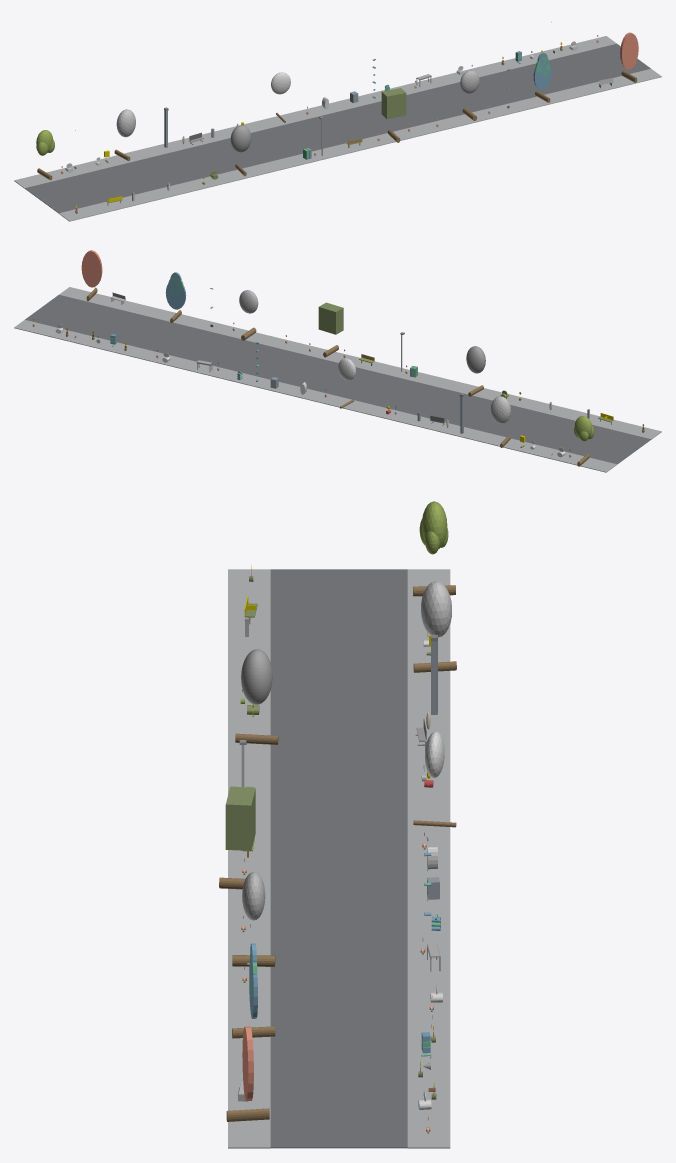
3 views of the same model, one above another, from view 1: azimuth 30°, elevation 25°; view 2: azimuth 150°, elevation 25°; view 3: azimuth 270°, elevation 25° (orthographic). The views are drawn at different scales.
Parts seen in each view (by area): view 1: road_slab, sidewalk_left, sidewalk_right, inst_0022, inst_0025, inst_0024, inst_0020, inst_0019, inst_0018, inst_0023, inst_0021; view 2: road_slab, sidewalk_right, sidewalk_left, inst_0022, inst_0025, inst_0024, inst_0019, inst_0020, inst_0018, inst_0023, inst_0021; view 3: road_slab, sidewalk_right, sidewalk_left, inst_0022, inst_0020, inst_0019, inst_0018, inst_0023, inst_0025, inst_0024, inst_0021.
Boxes of the visible parts, x1,y1,x2,y2 form: road_slab: [25, 43, 650, 213]; sidewalk_left: [59, 69, 661, 221]; sidewalk_right: [14, 36, 616, 188]; inst_0022: [381, 88, 406, 142]; inst_0025: [620, 32, 638, 82]; inst_0024: [533, 52, 551, 102]; inst_0020: [230, 125, 251, 176]; inst_0019: [114, 109, 135, 161]; inst_0018: [36, 130, 54, 180]; inst_0023: [460, 70, 479, 120]; inst_0021: [271, 72, 290, 122]; road_slab: [25, 295, 651, 464]; sidewalk_right: [14, 320, 616, 472]; sidewalk_left: [59, 287, 661, 439]; inst_0022: [318, 302, 343, 357]; inst_0025: [81, 250, 102, 301]; inst_0024: [165, 272, 186, 322]; inst_0019: [490, 396, 511, 447]; inst_0020: [466, 346, 485, 396]; inst_0018: [574, 416, 594, 466]; inst_0023: [239, 290, 258, 340]; inst_0021: [338, 358, 355, 408]; road_slab: [270, 569, 407, 1148]; sidewalk_right: [407, 569, 450, 1148]; sidewalk_left: [228, 569, 270, 1148]; inst_0022: [219, 786, 255, 889]; inst_0020: [235, 649, 278, 744]; inst_0019: [413, 581, 456, 672]; inst_0018: [413, 501, 455, 596]; inst_0023: [232, 871, 275, 966]; inst_0025: [226, 1026, 269, 1121]; inst_0024: [232, 943, 275, 1038]; inst_0021: [413, 731, 456, 827].
Bounding box in the file's own units: 80 × 6.08 × 13.9.
